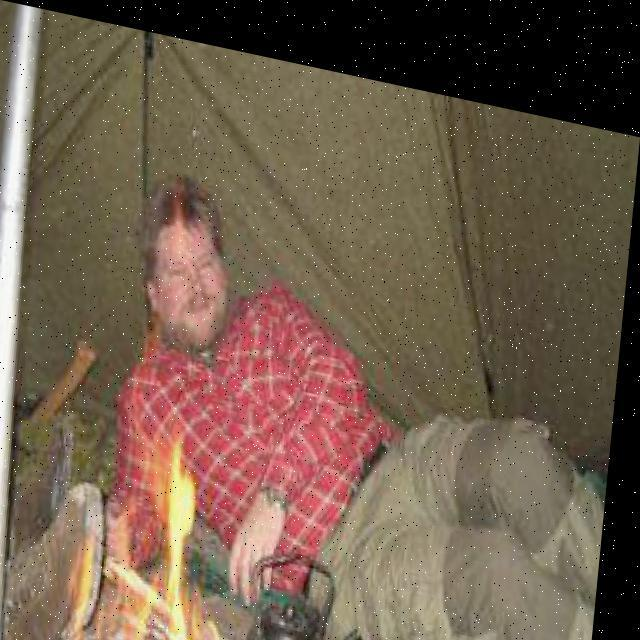Fire: (71, 418, 297, 639)
